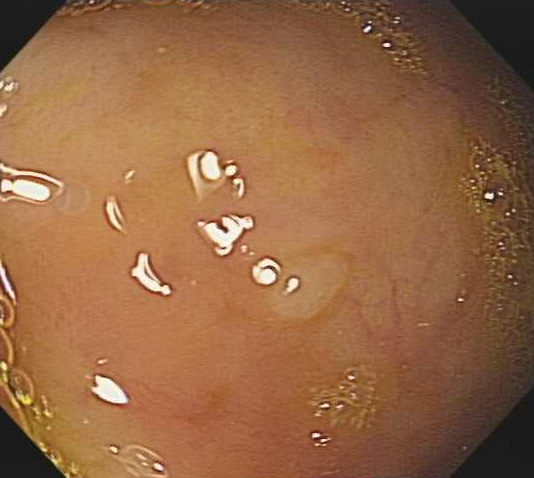others: (256, 248, 353, 325)
